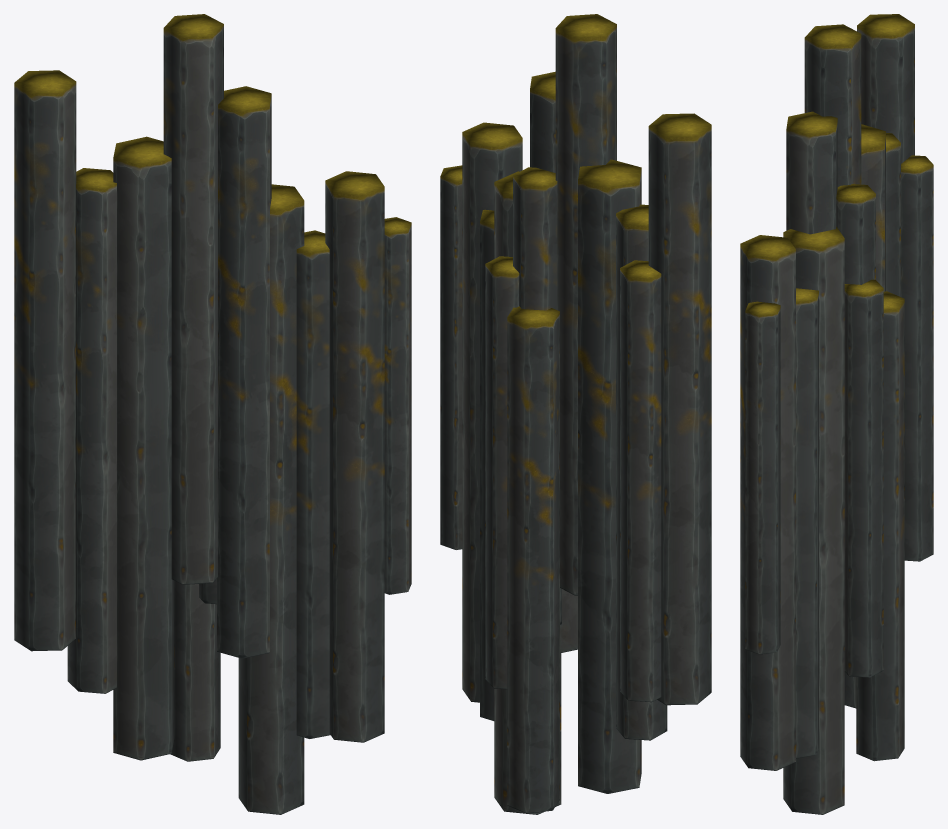
Rendered from SM_Pillar_Merged_04.glb.
The picture shows the model from 3 angles, left to right: view 1: azimuth 30°, elevation 25°; view 2: azimuth 150°, elevation 25°; view 3: azimuth 270°, elevation 25°; orthographic projection. The views are drawn at different scales.
Visible parts, largest first — view 1: SM_Pillar_Merged_04; view 2: SM_Pillar_Merged_04; view 3: SM_Pillar_Merged_04.
Part boxes in pixels (left/top/right/bottom): SM_Pillar_Merged_04: left=14, top=14, right=411, bottom=814; SM_Pillar_Merged_04: left=440, top=14, right=711, bottom=814; SM_Pillar_Merged_04: left=740, top=14, right=933, bottom=814.
Bounding box in the file's own units: 13.73 × 31.84 × 7.58.
1 material, 1 textured.
